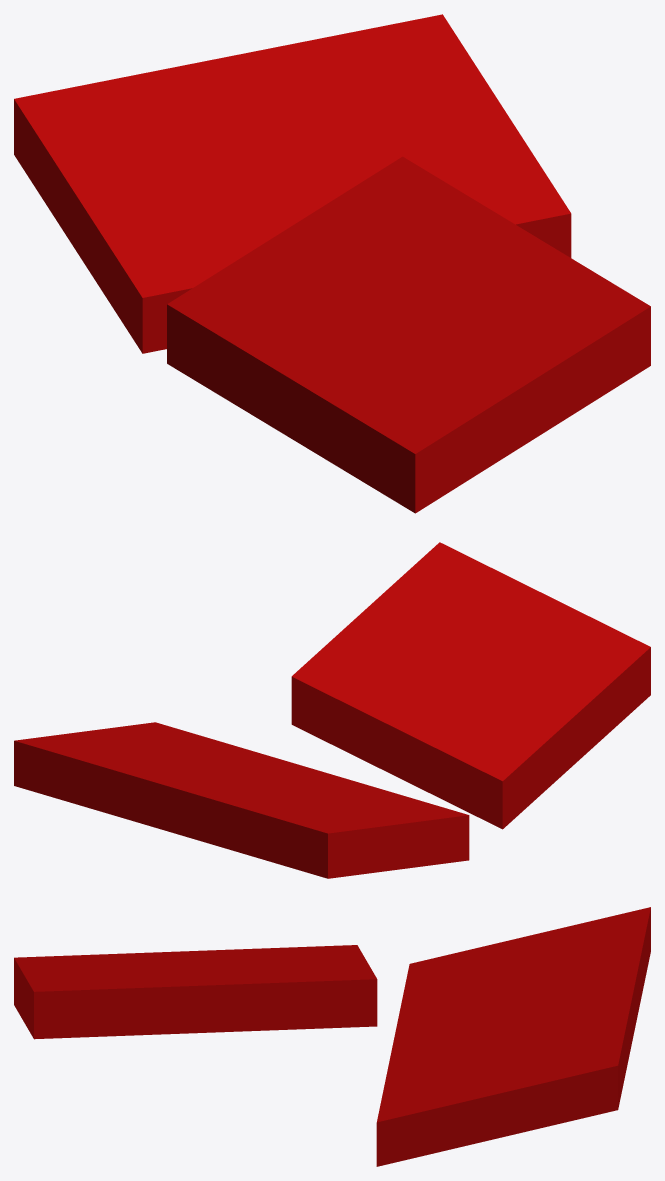
File: n_market_place01_tent_lod0.glb
The picture shows the model from 3 angles, top to bottom: view 1: azimuth 30°, elevation 25°; view 2: azimuth 150°, elevation 25°; view 3: azimuth 270°, elevation 25°; orthographic projection. The views are drawn at different scales.
Parts seen in each view (by area): view 1: MODEL_n_market_place01_tent_lod0; view 2: MODEL_n_market_place01_tent_lod0; view 3: MODEL_n_market_place01_tent_lod0.
Boxes of the visible parts, bbox=[...] form: MODEL_n_market_place01_tent_lod0: bbox=[14, 14, 650, 513]; MODEL_n_market_place01_tent_lod0: bbox=[14, 542, 650, 878]; MODEL_n_market_place01_tent_lod0: bbox=[14, 907, 650, 1166].
Bounding box in the file's own units: 0.8844 × 0.2955 × 1.39.
